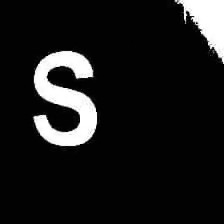LTR_S: (22, 44, 104, 150)
